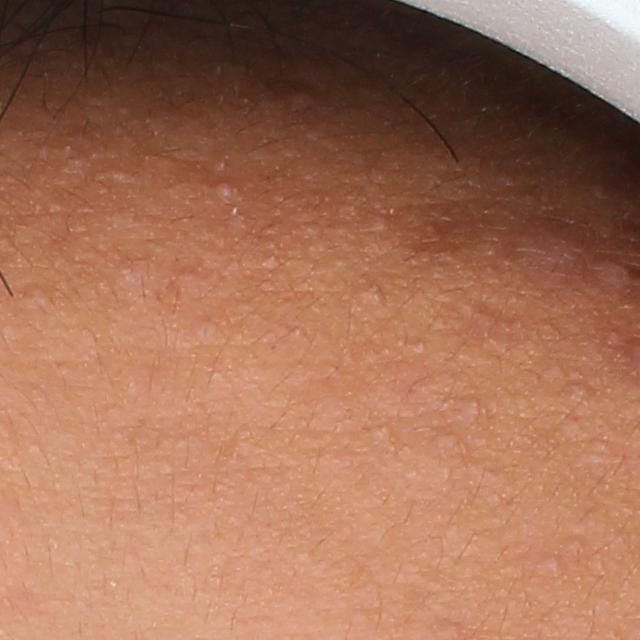comedo: (208, 171, 247, 206), (537, 555, 567, 578), (368, 209, 392, 232), (463, 397, 485, 421)
